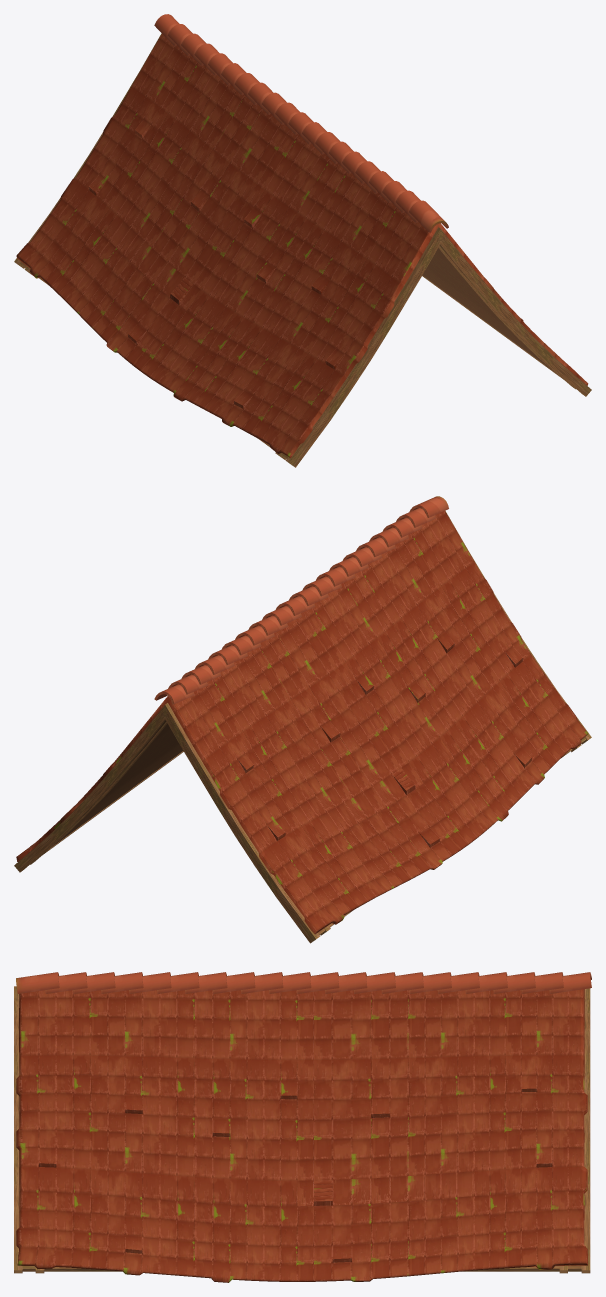
Rendered from Roof_FlatTiles_8x14.gltf.
3 views of the same model, one above another, from view 1: azimuth 30°, elevation 25°; view 2: azimuth 150°, elevation 25°; view 3: azimuth 270°, elevation 25° (orthographic). The views are drawn at different scales.
Visible parts, largest first — view 1: Roof_FlatTiles_8x14; view 2: Roof_FlatTiles_8x14; view 3: Roof_FlatTiles_8x14.
Part boxes in pixels (x1,y1,x2,y2): Roof_FlatTiles_8x14: [14, 14, 591, 467]; Roof_FlatTiles_8x14: [14, 496, 591, 943]; Roof_FlatTiles_8x14: [14, 972, 591, 1282].
Bounding box in the file's own units: 10.8 × 6.78 × 15.71.
3 materials, 3 textured.
